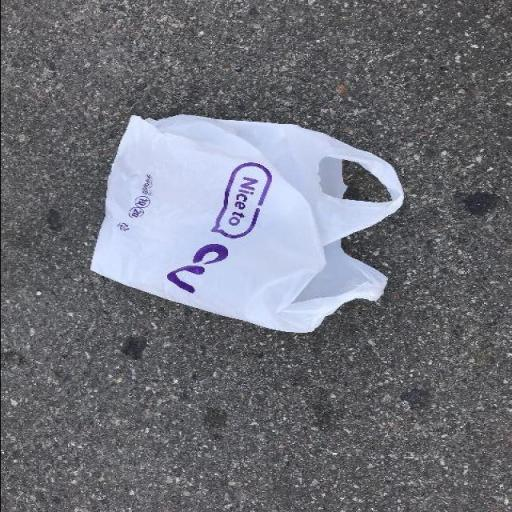plastic-bag: (86, 112, 404, 338)
